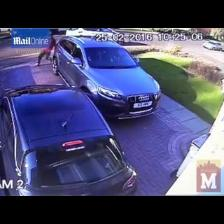person: (36, 34, 55, 65)
